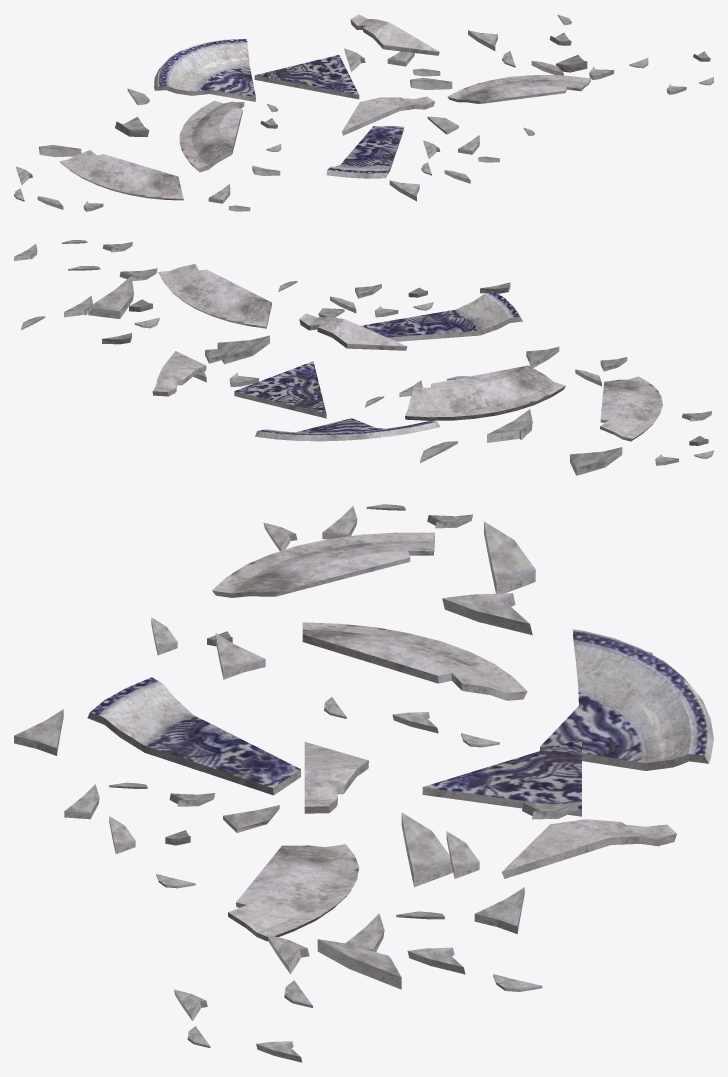
File: M_c3_dts_Plate_02.fbx
The picture shows the model from 3 angles, top to bottom: view 1: azimuth 30°, elevation 25°; view 2: azimuth 150°, elevation 25°; view 3: azimuth 270°, elevation 25°; orthographic projection. The views are drawn at different scales.
Parts seen in each view (by area): view 1: M_c3_dts_Plate_02.mo; view 2: M_c3_dts_Plate_02.mo; view 3: M_c3_dts_Plate_02.mo.
Boxes of the visible parts, x1,y1,x2,y2 form: M_c3_dts_Plate_02.mo: [14, 14, 713, 211]; M_c3_dts_Plate_02.mo: [14, 240, 713, 475]; M_c3_dts_Plate_02.mo: [14, 504, 713, 1062].
Bounding box in the file's own units: 115 × 5.06 × 61.14.
